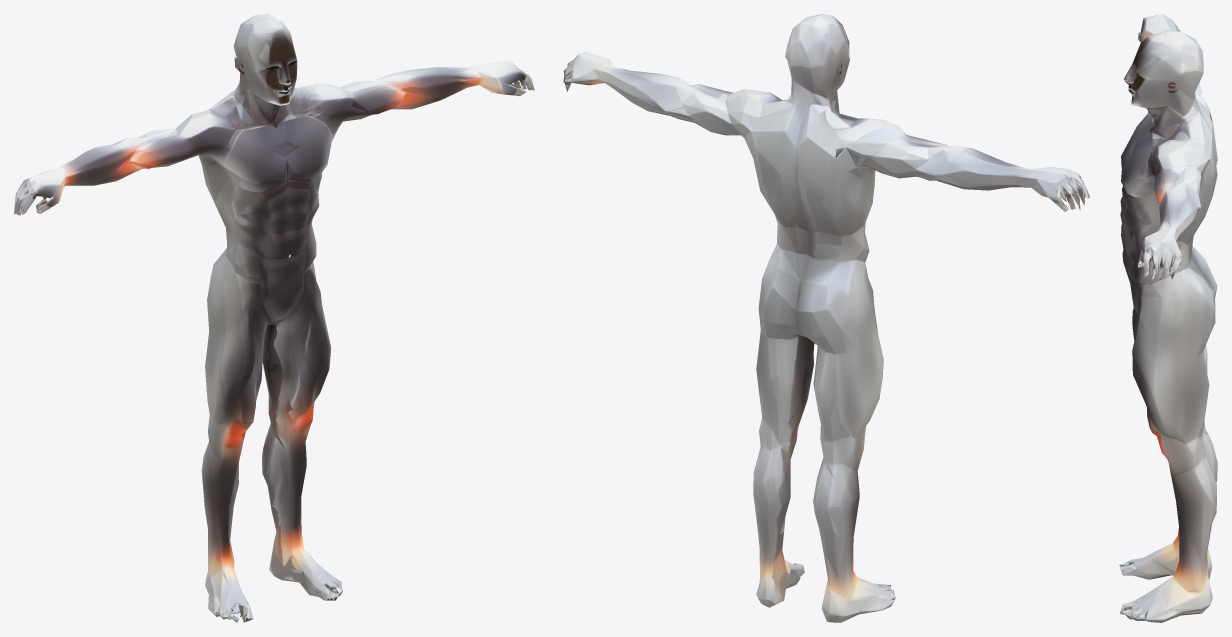
File: base_basic_shaded.glb
3 renders of one model, left to right at view 1: azimuth 30°, elevation 25°; view 2: azimuth 150°, elevation 25°; view 3: azimuth 270°, elevation 25°, orthographic. The views are drawn at different scales.
Visible parts, largest first — view 1: model; view 2: model; view 3: model.
Boxes of the visible parts, bbox=[...] form: model: bbox=[14, 14, 534, 622]; model: bbox=[563, 14, 1090, 622]; model: bbox=[1119, 14, 1217, 622].
Bounding box in the file's own units: 1.67 × 1.8 × 0.2848.
1 material, 1 textured.
